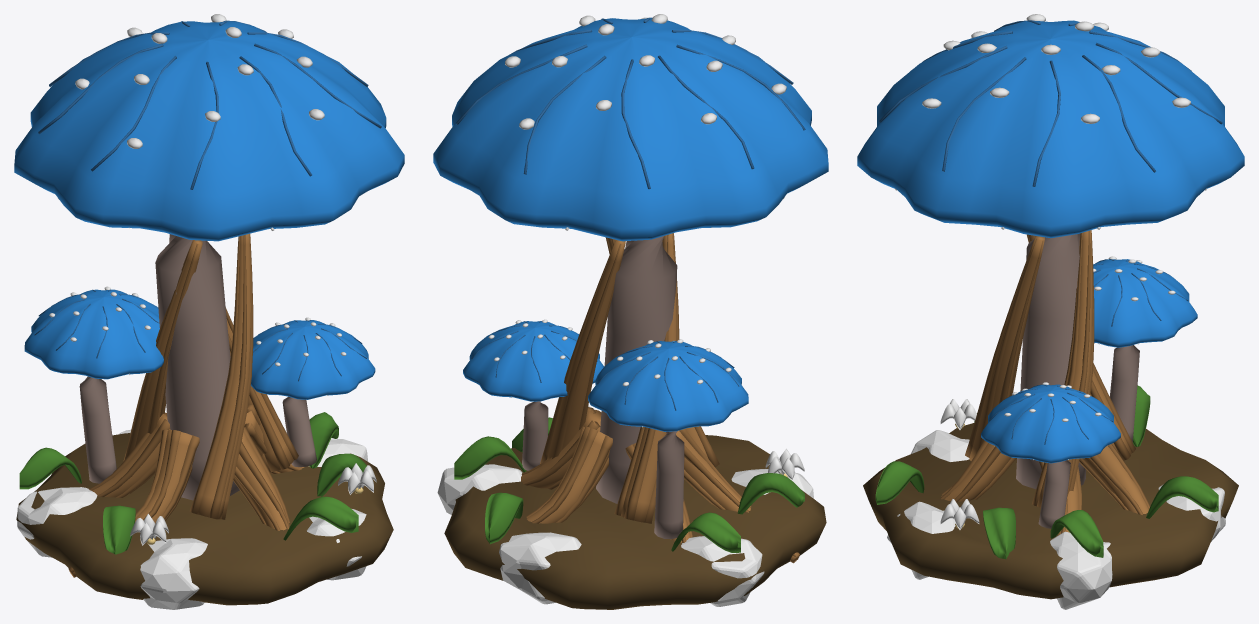
The model's file is mushroom-3.fbx.
3 renders of one model, left to right at view 1: azimuth 30°, elevation 25°; view 2: azimuth 150°, elevation 25°; view 3: azimuth 270°, elevation 25°, orthographic. The views are drawn at different scales.
Visible parts, largest first — view 1: Petals_PortalCap, mushroom-3_Organic, Turret_PortalCap, Turret_Bark, mushroom-3_Bark, mushroom-3_Stone, mushroom-3_PortalBamboo, Petals_Glow, mushroom-3_Petal, Turret_Glow; view 2: Petals_PortalCap, mushroom-3_Organic, Turret_PortalCap, Turret_Bark, mushroom-3_Bark, mushroom-3_Stone, mushroom-3_PortalBamboo, Petals_Glow, mushroom-3_Petal, Turret_Glow; view 3: Petals_PortalCap, mushroom-3_Organic, Turret_PortalCap, Turret_Bark, mushroom-3_PortalBamboo, mushroom-3_Stone, mushroom-3_Bark, Petals_Glow, mushroom-3_Petal, Turret_Glow.
Boxes of the visible parts, x1,y1,x2,y2 form: Petals_PortalCap: (14, 20, 404, 500); mushroom-3_Organic: (16, 433, 393, 605); Turret_PortalCap: (24, 289, 375, 483); Turret_Bark: (123, 233, 298, 519); mushroom-3_Bark: (68, 404, 304, 577); mushroom-3_Stone: (17, 429, 368, 609); mushroom-3_PortalBamboo: (19, 412, 366, 554); Petals_Glow: (58, 14, 324, 230); mushroom-3_Petal: (130, 463, 376, 545); Turret_Glow: (49, 286, 346, 395); Petals_PortalCap: (433, 17, 828, 503); mushroom-3_Organic: (444, 435, 826, 609); Turret_PortalCap: (463, 321, 748, 539); Turret_Bark: (540, 233, 719, 523); mushroom-3_Bark: (521, 407, 799, 563); mushroom-3_Stone: (437, 464, 813, 606); mushroom-3_PortalBamboo: (454, 417, 804, 552); Petals_Glow: (505, 14, 786, 230); mushroom-3_Petal: (588, 405, 804, 480); Turret_Glow: (488, 319, 731, 427); Petals_PortalCap: (857, 20, 1244, 489); mushroom-3_Organic: (863, 423, 1238, 599); Turret_PortalCap: (981, 259, 1197, 528); Turret_Bark: (965, 230, 1135, 508); mushroom-3_PortalBamboo: (875, 385, 1218, 559); mushroom-3_Stone: (887, 430, 1225, 609); mushroom-3_Bark: (940, 440, 1149, 535); Petals_Glow: (895, 14, 1206, 229); mushroom-3_Petal: (940, 399, 979, 529); Turret_Glow: (1004, 256, 1181, 460).
Size of the model in its own units: 84.05 by 123 by 85.15.
